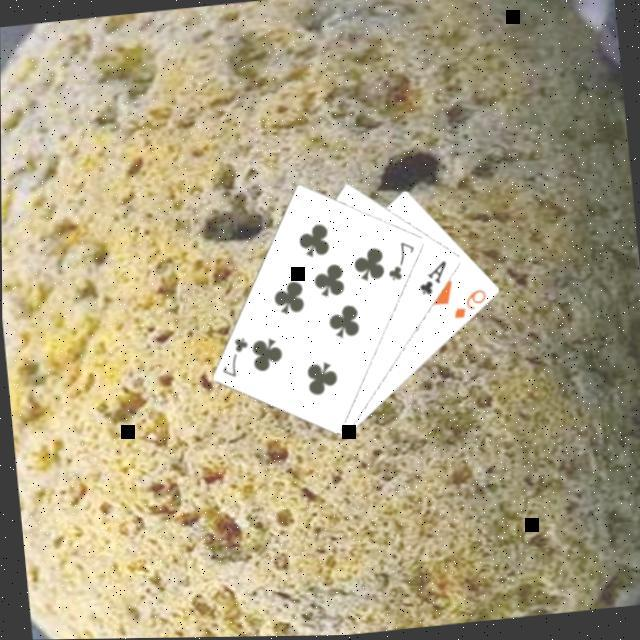7C: (212, 332, 251, 381), (379, 237, 417, 284)
9D: (446, 285, 489, 323)
AC: (411, 256, 450, 299)
